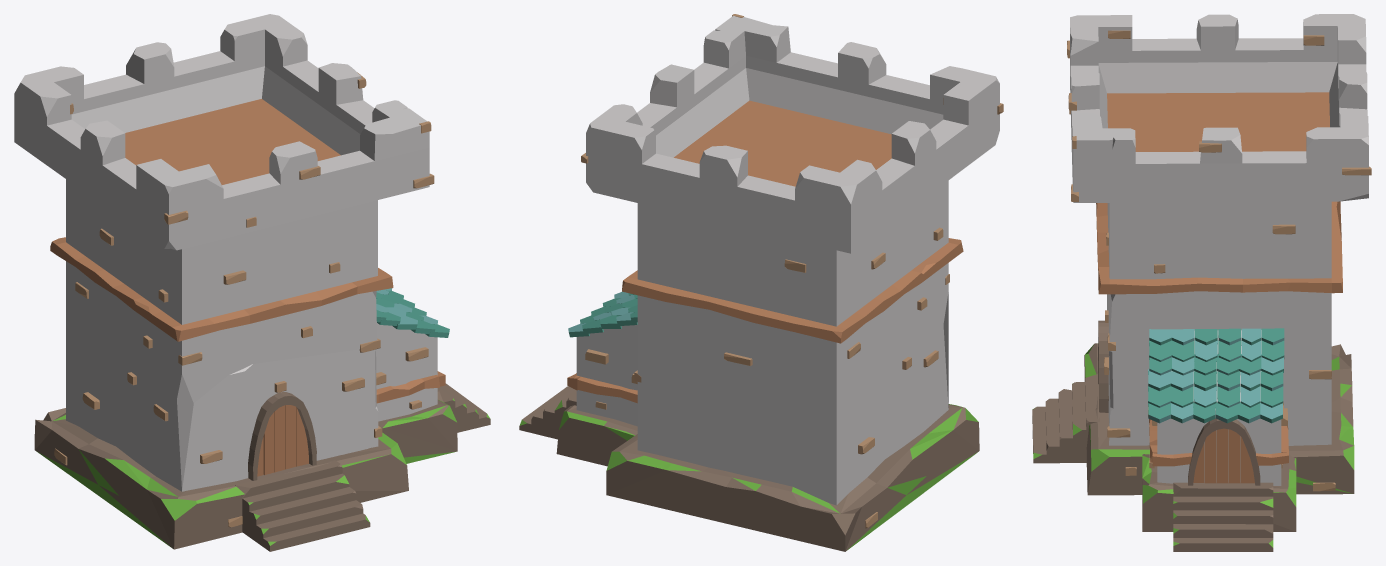
Rendered from Tower.fbx.
3 views of the same model, side by side, from view 1: azimuth 30°, elevation 25°; view 2: azimuth 150°, elevation 25°; view 3: azimuth 270°, elevation 25° (orthographic). The views are drawn at different scales.
Parts seen in each view (by area): view 1: TowerBase, StairsCentral, StairsRight; view 2: TowerBase, StairsRight; view 3: TowerBase, StairsRight, StairsCentral.
Part boxes in pixels (<box>): TowerBase: <box>14,14,457,549</box>; StairsCentral: <box>235,460,370,551</box>; StairsRight: <box>437,383,490,432</box>; TowerBase: <box>556,14,1003,551</box>; StairsRight: <box>519,386,576,439</box>; TowerBase: <box>1067,14,1371,531</box>; StairsRight: <box>1173,482,1273,551</box>; StairsCentral: <box>1032,374,1099,463</box>.
Size of the model in its own units: 1916 by 1801 by 1527.
